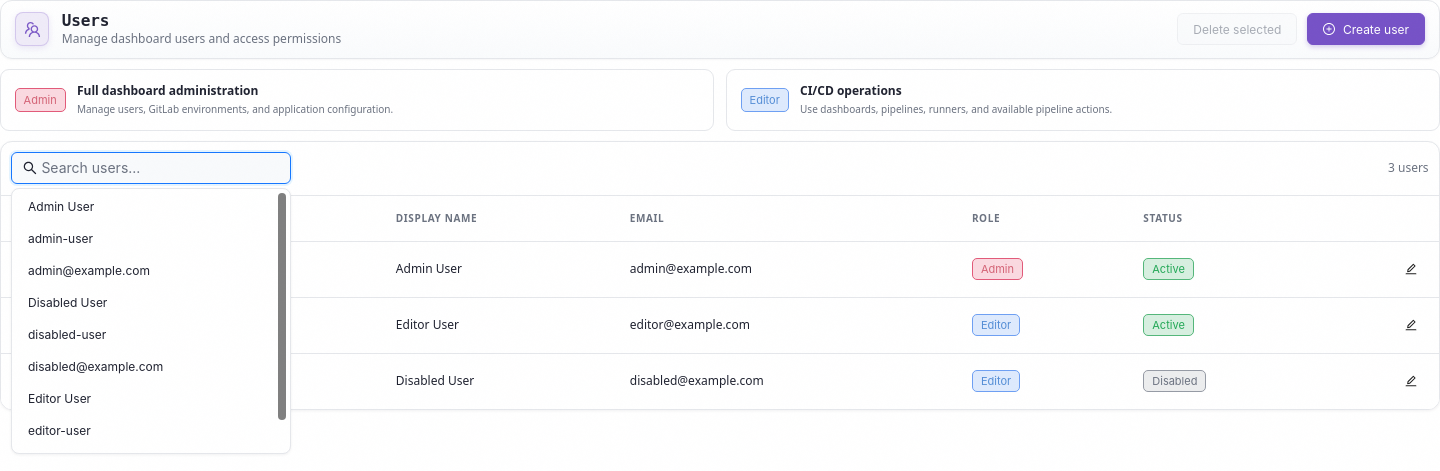
Test: UsersPage › search control › filters the users table when a suggestion is selected
expect the text "admin-user" next to "AU" is shown: met, box [127,260,192,277]
What coordinates should you click on to do the following:
click the element showing "admin@example.com"
I would click on:
 (89, 270)
Its box is [28,263,150,278].
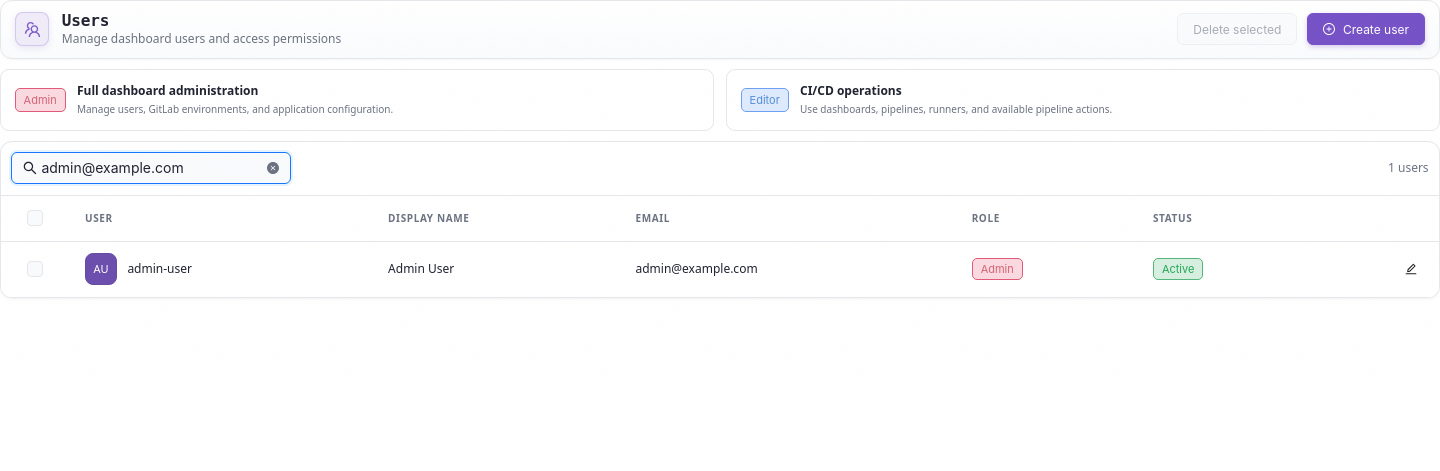
expect the row "AU admin-user Admin User admin@example.com admin Active" is shown: met, box [1,241,1439,297]
expect the dropdown with placeholder "Search users..." holds "admin@example.com": met, box [41,157,263,179]
expect the text "1 users" is shown: met, box [1388,160,1429,176]
